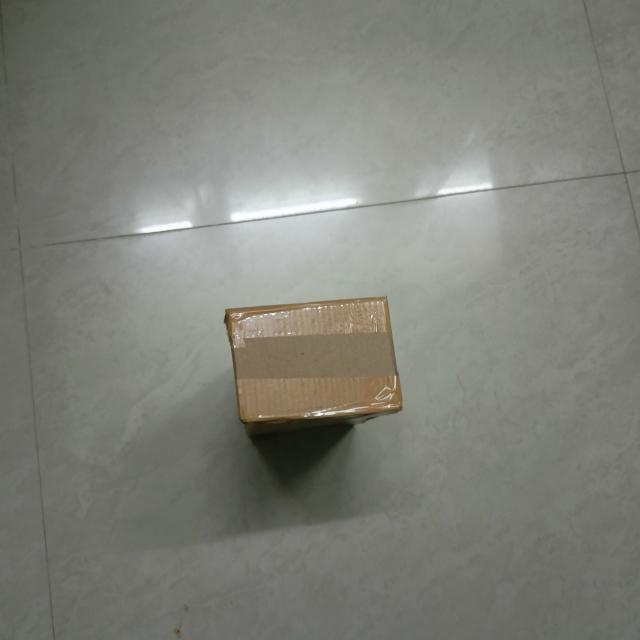box: (228, 301, 404, 419)
